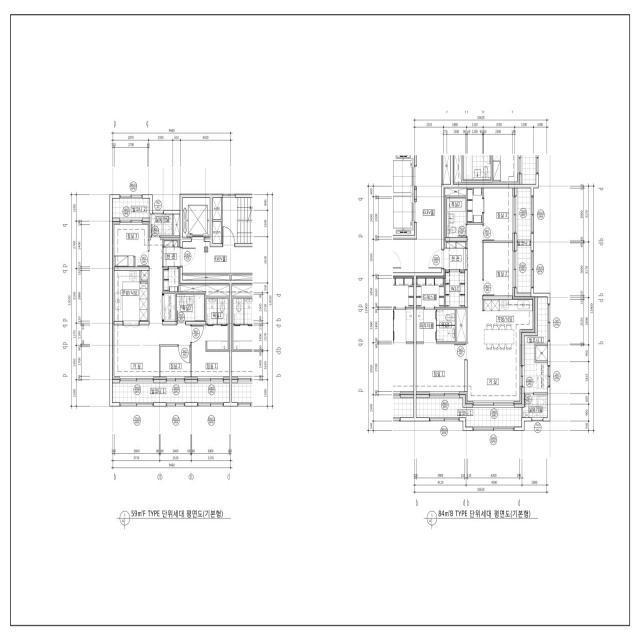space_balconi: (416, 398, 522, 427), (112, 383, 229, 402), (524, 297, 547, 393), (517, 188, 531, 293), (112, 198, 150, 218)
space_bedroom: (416, 344, 465, 394), (192, 325, 229, 379), (112, 221, 150, 267), (484, 243, 515, 296), (484, 188, 514, 241), (160, 347, 191, 379)
space_dressroom: (416, 276, 444, 307), (467, 188, 482, 223)
space_elevator: (183, 198, 210, 238), (393, 194, 414, 235), (393, 155, 414, 194)
space_elevator_hall: (393, 155, 441, 272), (183, 242, 253, 273)
space_front: (444, 241, 466, 270), (164, 237, 180, 267)
space_kitchen: (484, 297, 535, 350), (112, 271, 148, 321)
space_living_room: (112, 237, 190, 379), (465, 224, 522, 404)
space_other: (446, 272, 465, 307), (180, 284, 229, 296), (164, 269, 180, 292), (457, 309, 466, 342), (164, 294, 175, 321), (183, 275, 230, 280), (443, 155, 451, 184), (444, 188, 466, 196), (213, 198, 221, 219), (213, 222, 221, 243), (536, 346, 547, 360), (174, 214, 180, 235), (231, 275, 252, 280), (141, 271, 148, 280)
space_outdoor_room: (523, 395, 547, 417), (151, 214, 172, 235)
space_staircase: (223, 198, 252, 243)
space_toilet: (416, 309, 455, 342), (206, 298, 228, 350), (446, 198, 466, 237), (177, 294, 204, 321)
